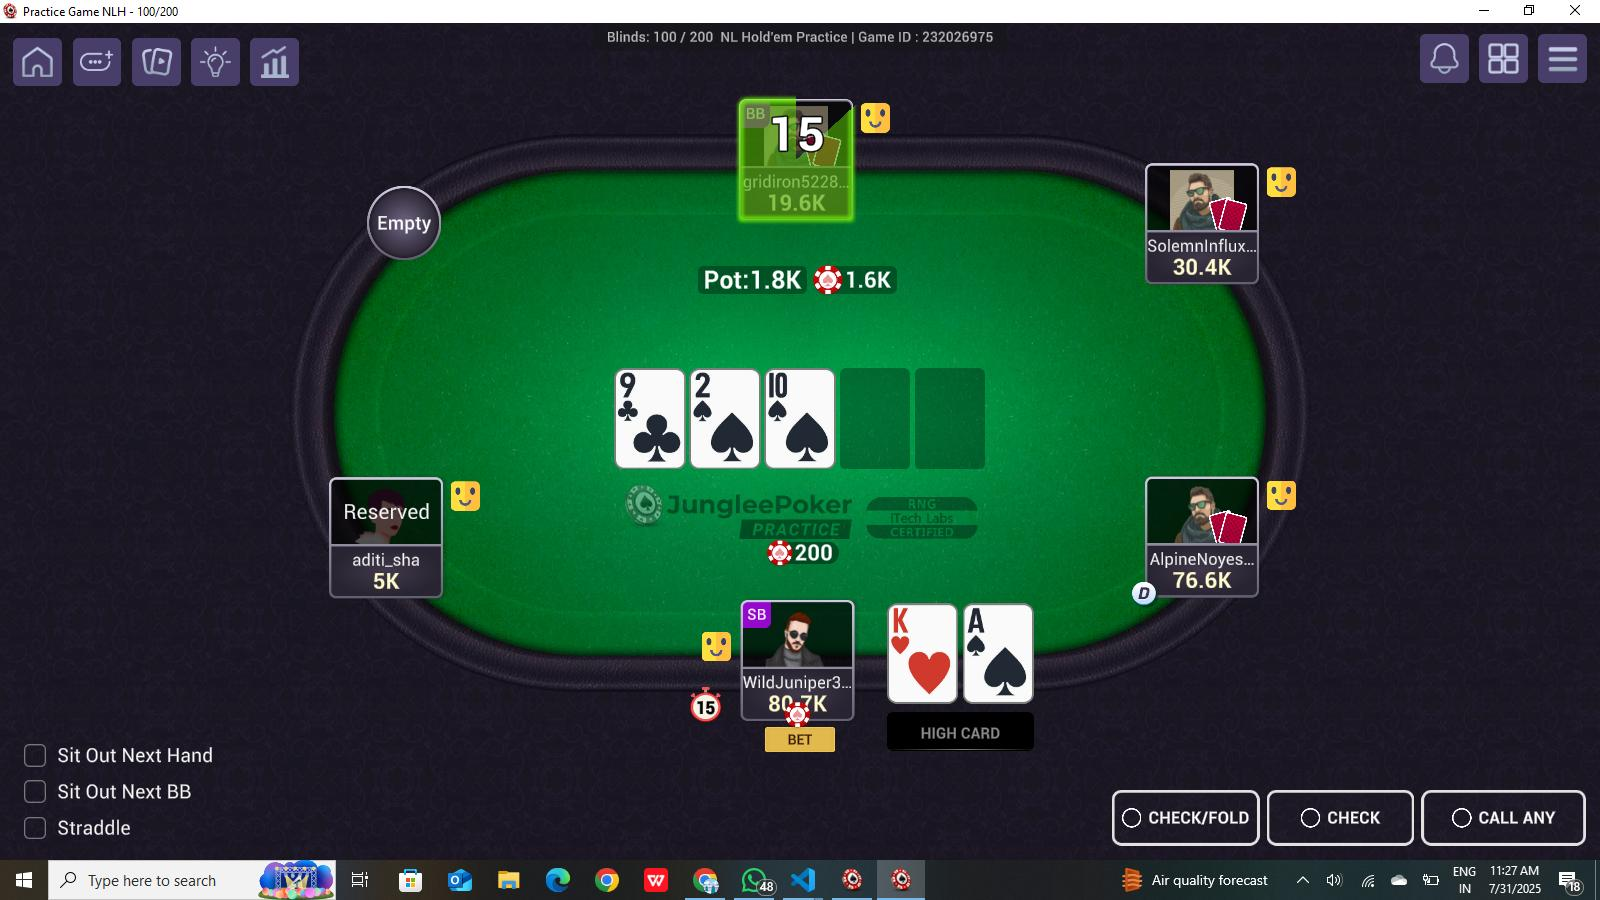card1_rank: (888, 604, 952, 636)
card1_suite_heart: (904, 635, 956, 700)
card2_rank: (964, 604, 1021, 640)
card2_suite_spades: (980, 641, 1033, 699)
flop1_rank: (612, 368, 675, 407)
flop1_suite_club: (627, 404, 686, 465)
flop2_rank: (692, 368, 758, 409)
flop2_suite_spades: (700, 409, 758, 468)
flop3_rank: (764, 368, 830, 407)
flop3_suite_spades: (777, 411, 833, 469)
game_id: (852, 26, 1000, 52)
my_bet: (764, 536, 842, 571)
my_stack: (735, 692, 852, 718)
position_BB: (736, 99, 776, 133)
position_SB: (736, 597, 776, 632)
total_pot: (700, 260, 907, 297)
villian1_name: (332, 548, 444, 570)
villian1_stack: (330, 567, 440, 602)
villian3_name: (740, 168, 854, 195)
villian3_stack: (744, 192, 854, 216)
villian4_name: (1144, 231, 1252, 254)
villian4_stack: (1148, 253, 1260, 281)
villian5_name: (1136, 541, 1258, 577)
villian5_stack: (1140, 565, 1257, 597)
